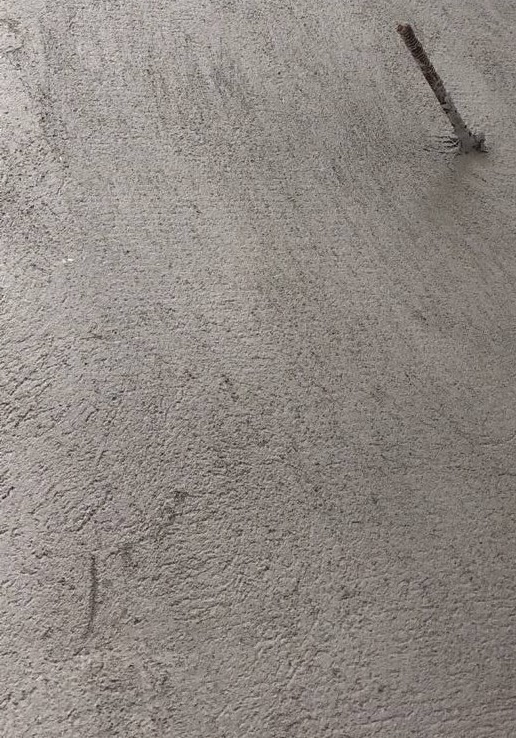Exposed reinforcement: (396, 23, 478, 151)
